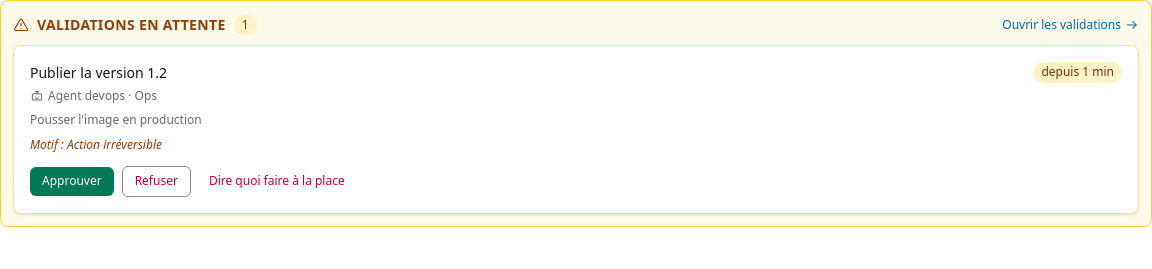
Test case: trancher une demande (#272) › rend la main et nomme la cause quand la décision n'est pas passée
Step 1. Click the button "Approuver" → coordinates (72, 181), box [30,167,114,196]
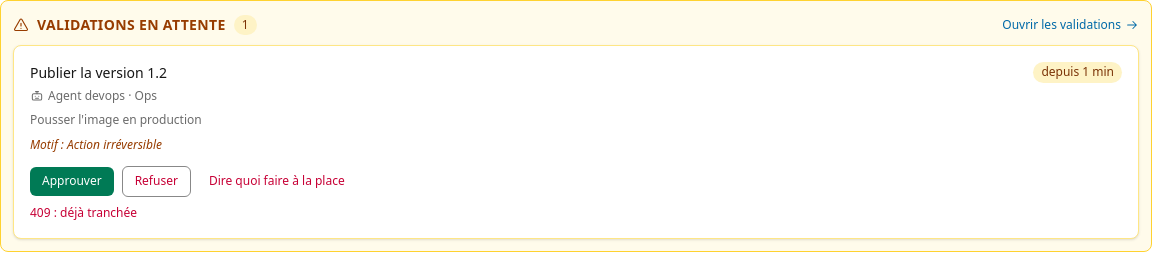
Now the text "409 : déjà tranchée" is shown, box [30,204,137,221]
